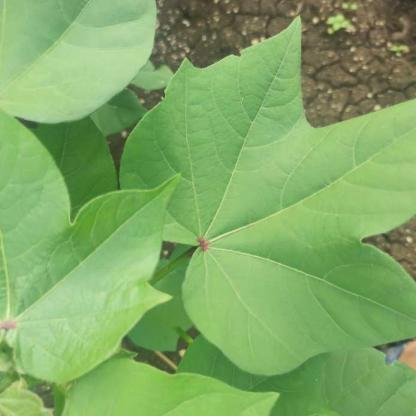cotton: (131, 17, 416, 373)
